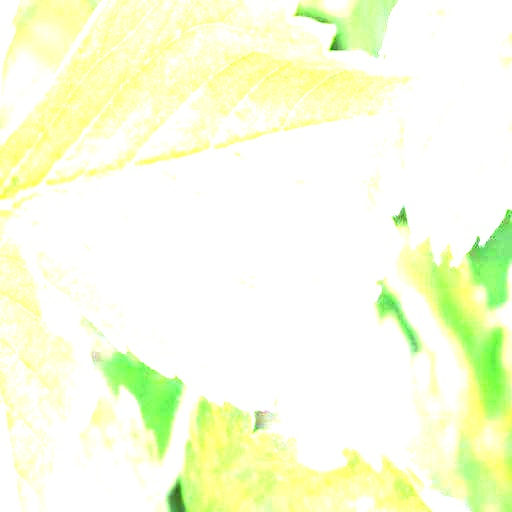Powdery Mildew Leaf: (0, 0, 439, 412), (179, 392, 468, 511)
